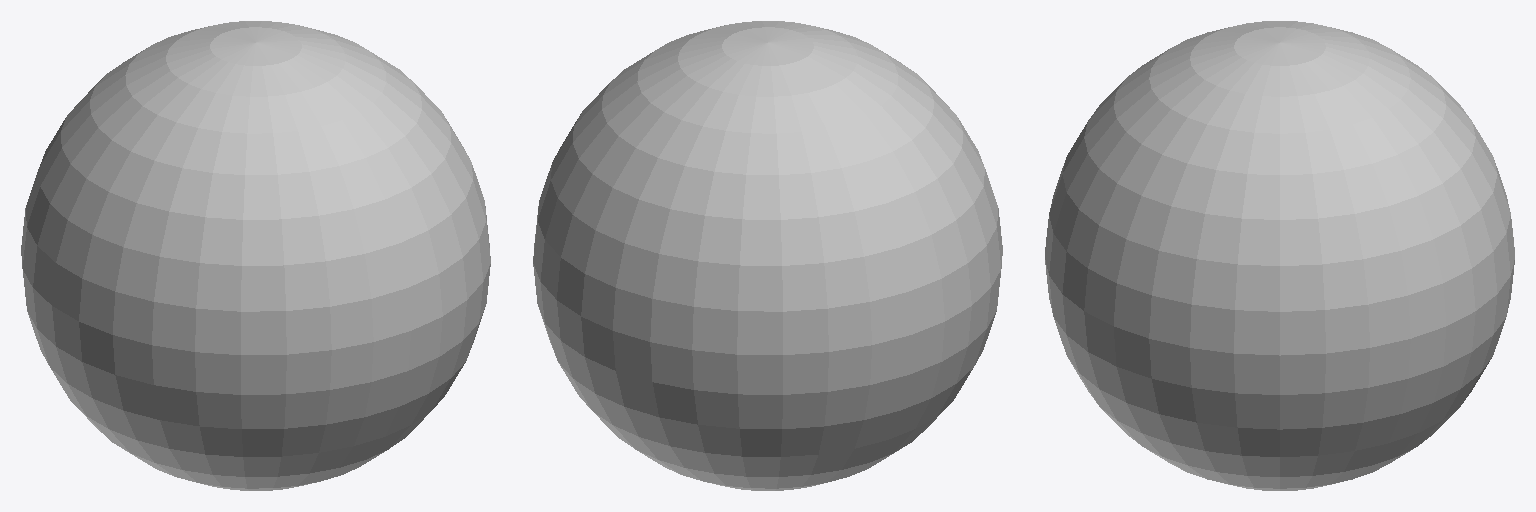
The picture shows the model from 3 angles: view 1: azimuth 30°, elevation 25°; view 2: azimuth 150°, elevation 25°; view 3: azimuth 270°, elevation 25°; orthographic projection.
Parts seen in each view (by area): view 1: Sun_Sphere; view 2: Sun_Sphere; view 3: Sun_Sphere.
Part boxes in pixels (x1,y1,x2,y2): Sun_Sphere: (21,21,490,490); Sun_Sphere: (533,21,1002,490); Sun_Sphere: (1045,21,1514,490).
Size of the model in its own units: 5.79 by 5.79 by 5.79.